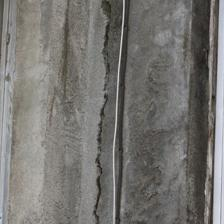Crack: (46, 1, 74, 222)
